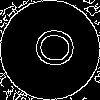O: (25, 25, 76, 70)
